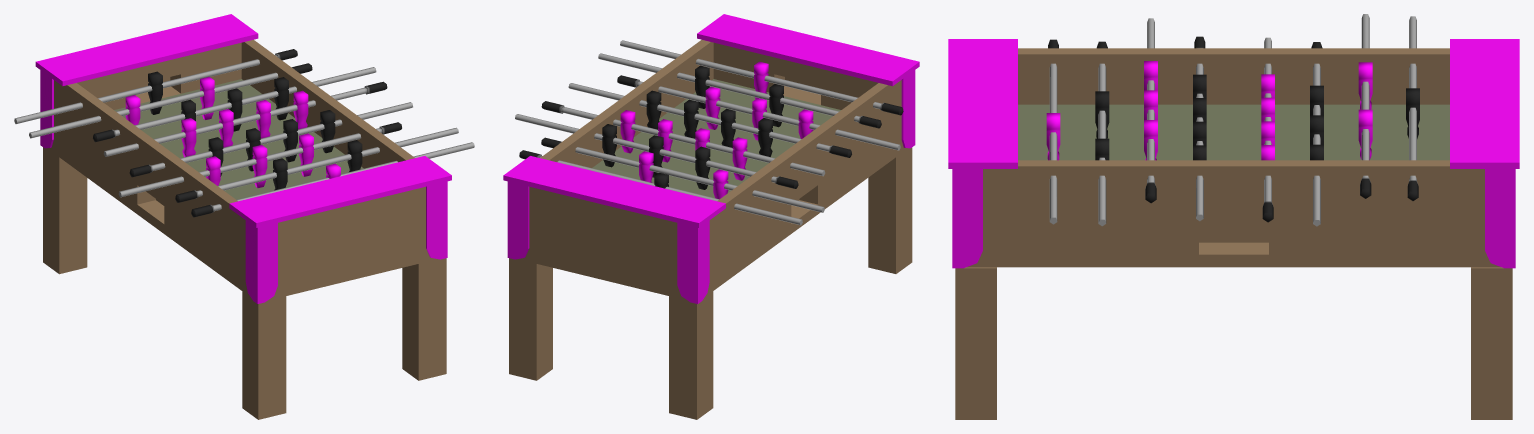
File: FoosballTable.fbx
The picture shows the model from 3 angles, left to right: view 1: azimuth 30°, elevation 25°; view 2: azimuth 150°, elevation 25°; view 3: azimuth 270°, elevation 25°; orthographic projection. The views are drawn at different scales.
Visible parts, largest first — view 1: polySurface22, pCube38, pCylinder12, pCylinder11, pCylinder10, pCylinder13, pCylinder14, pCylinder9, pCylinder15, polySurface20; view 2: polySurface22, pCube38, pCylinder11, pCylinder12, pCylinder13, pCylinder10, pCylinder9, pCylinder14, polySurface20, pCylinder15; view 3: polySurface22, pCube38, pCylinder14, pCylinder10, pCylinder12, pCylinder11, pCylinder9, pCylinder13, polySurface20, pCylinder15.
Part boxes in pixels (x1,y1,x2,y2): polySurface22: (43,39,446,419); pCube38: (35,14,451,303); pCylinder12: (103,81,387,157); pCylinder11: (129,102,412,177); pCylinder10: (118,122,401,197); pCylinder13: (93,67,376,142); pCylinder14: (29,63,312,138); pCylinder9: (175,127,458,202); pCylinder15: (14,49,297,124); polySurface20: (191,142,474,217); polySurface22: (509,40,912,419); pCube38: (503,14,919,303); pCylinder11: (568,83,851,157); pCylinder12: (541,101,825,180); pCylinder13: (515,114,798,189); pCylinder10: (617,75,900,150); pCylinder9: (598,53,881,128); pCylinder14: (541,137,824,212); polySurface20: (620,40,903,115); pCylinder15: (519,150,802,225); polySurface22: (955,48,1512,419); pCube38: (948,39,1519,268); pCylinder14: (1358,14,1372,198); pCylinder10: (1144,18,1157,203); pCylinder12: (1261,37,1274,222); pCylinder11: (1193,36,1206,221); pCylinder9: (1095,41,1109,226); pCylinder13: (1310,42,1323,226); polySurface20: (1046,39,1060,224); pCylinder15: (1406,16,1419,200).
Bounding box in the file's own units: 175 × 102 × 205.
Materials: 1 (1 with a texture image).
